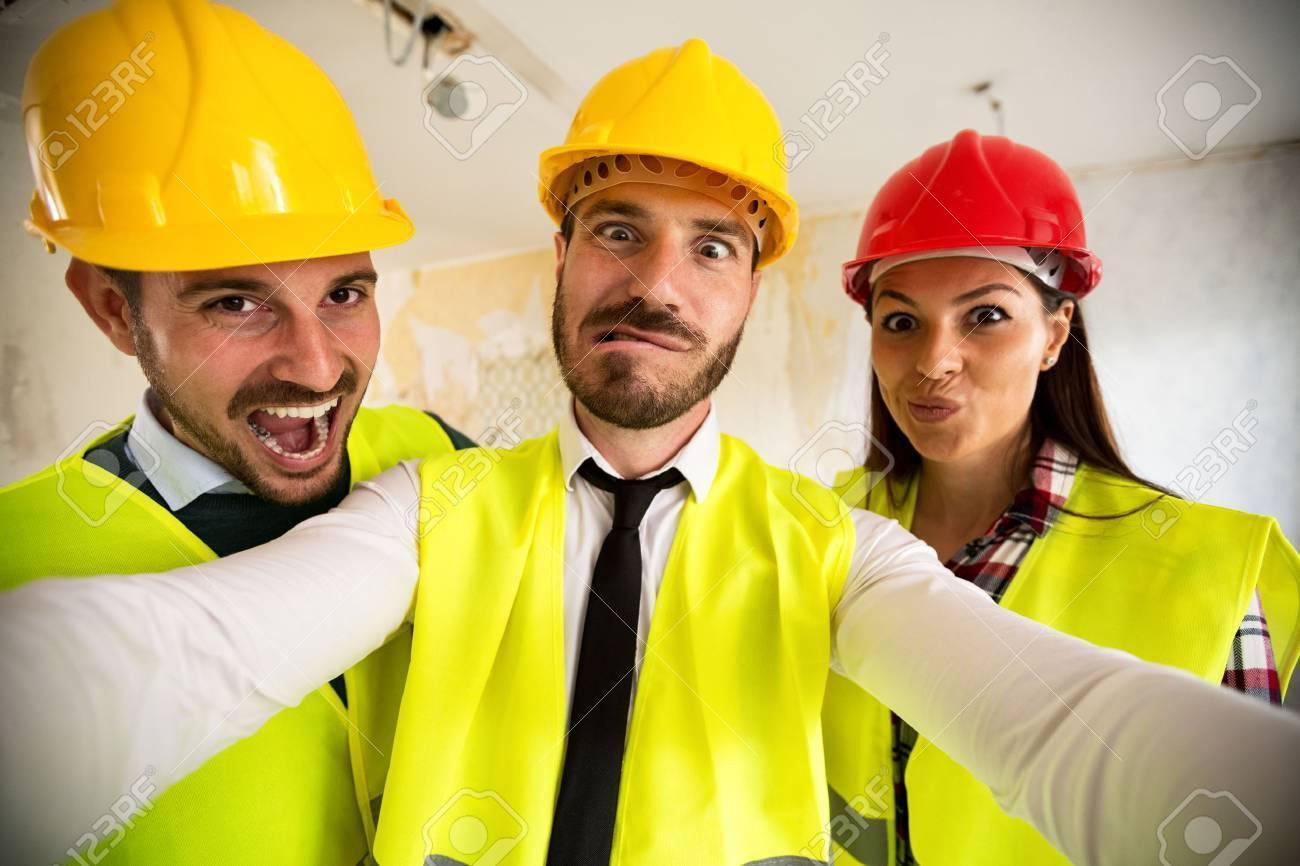helmet: (20, 2, 418, 268), (538, 39, 801, 265), (836, 132, 1104, 301)
